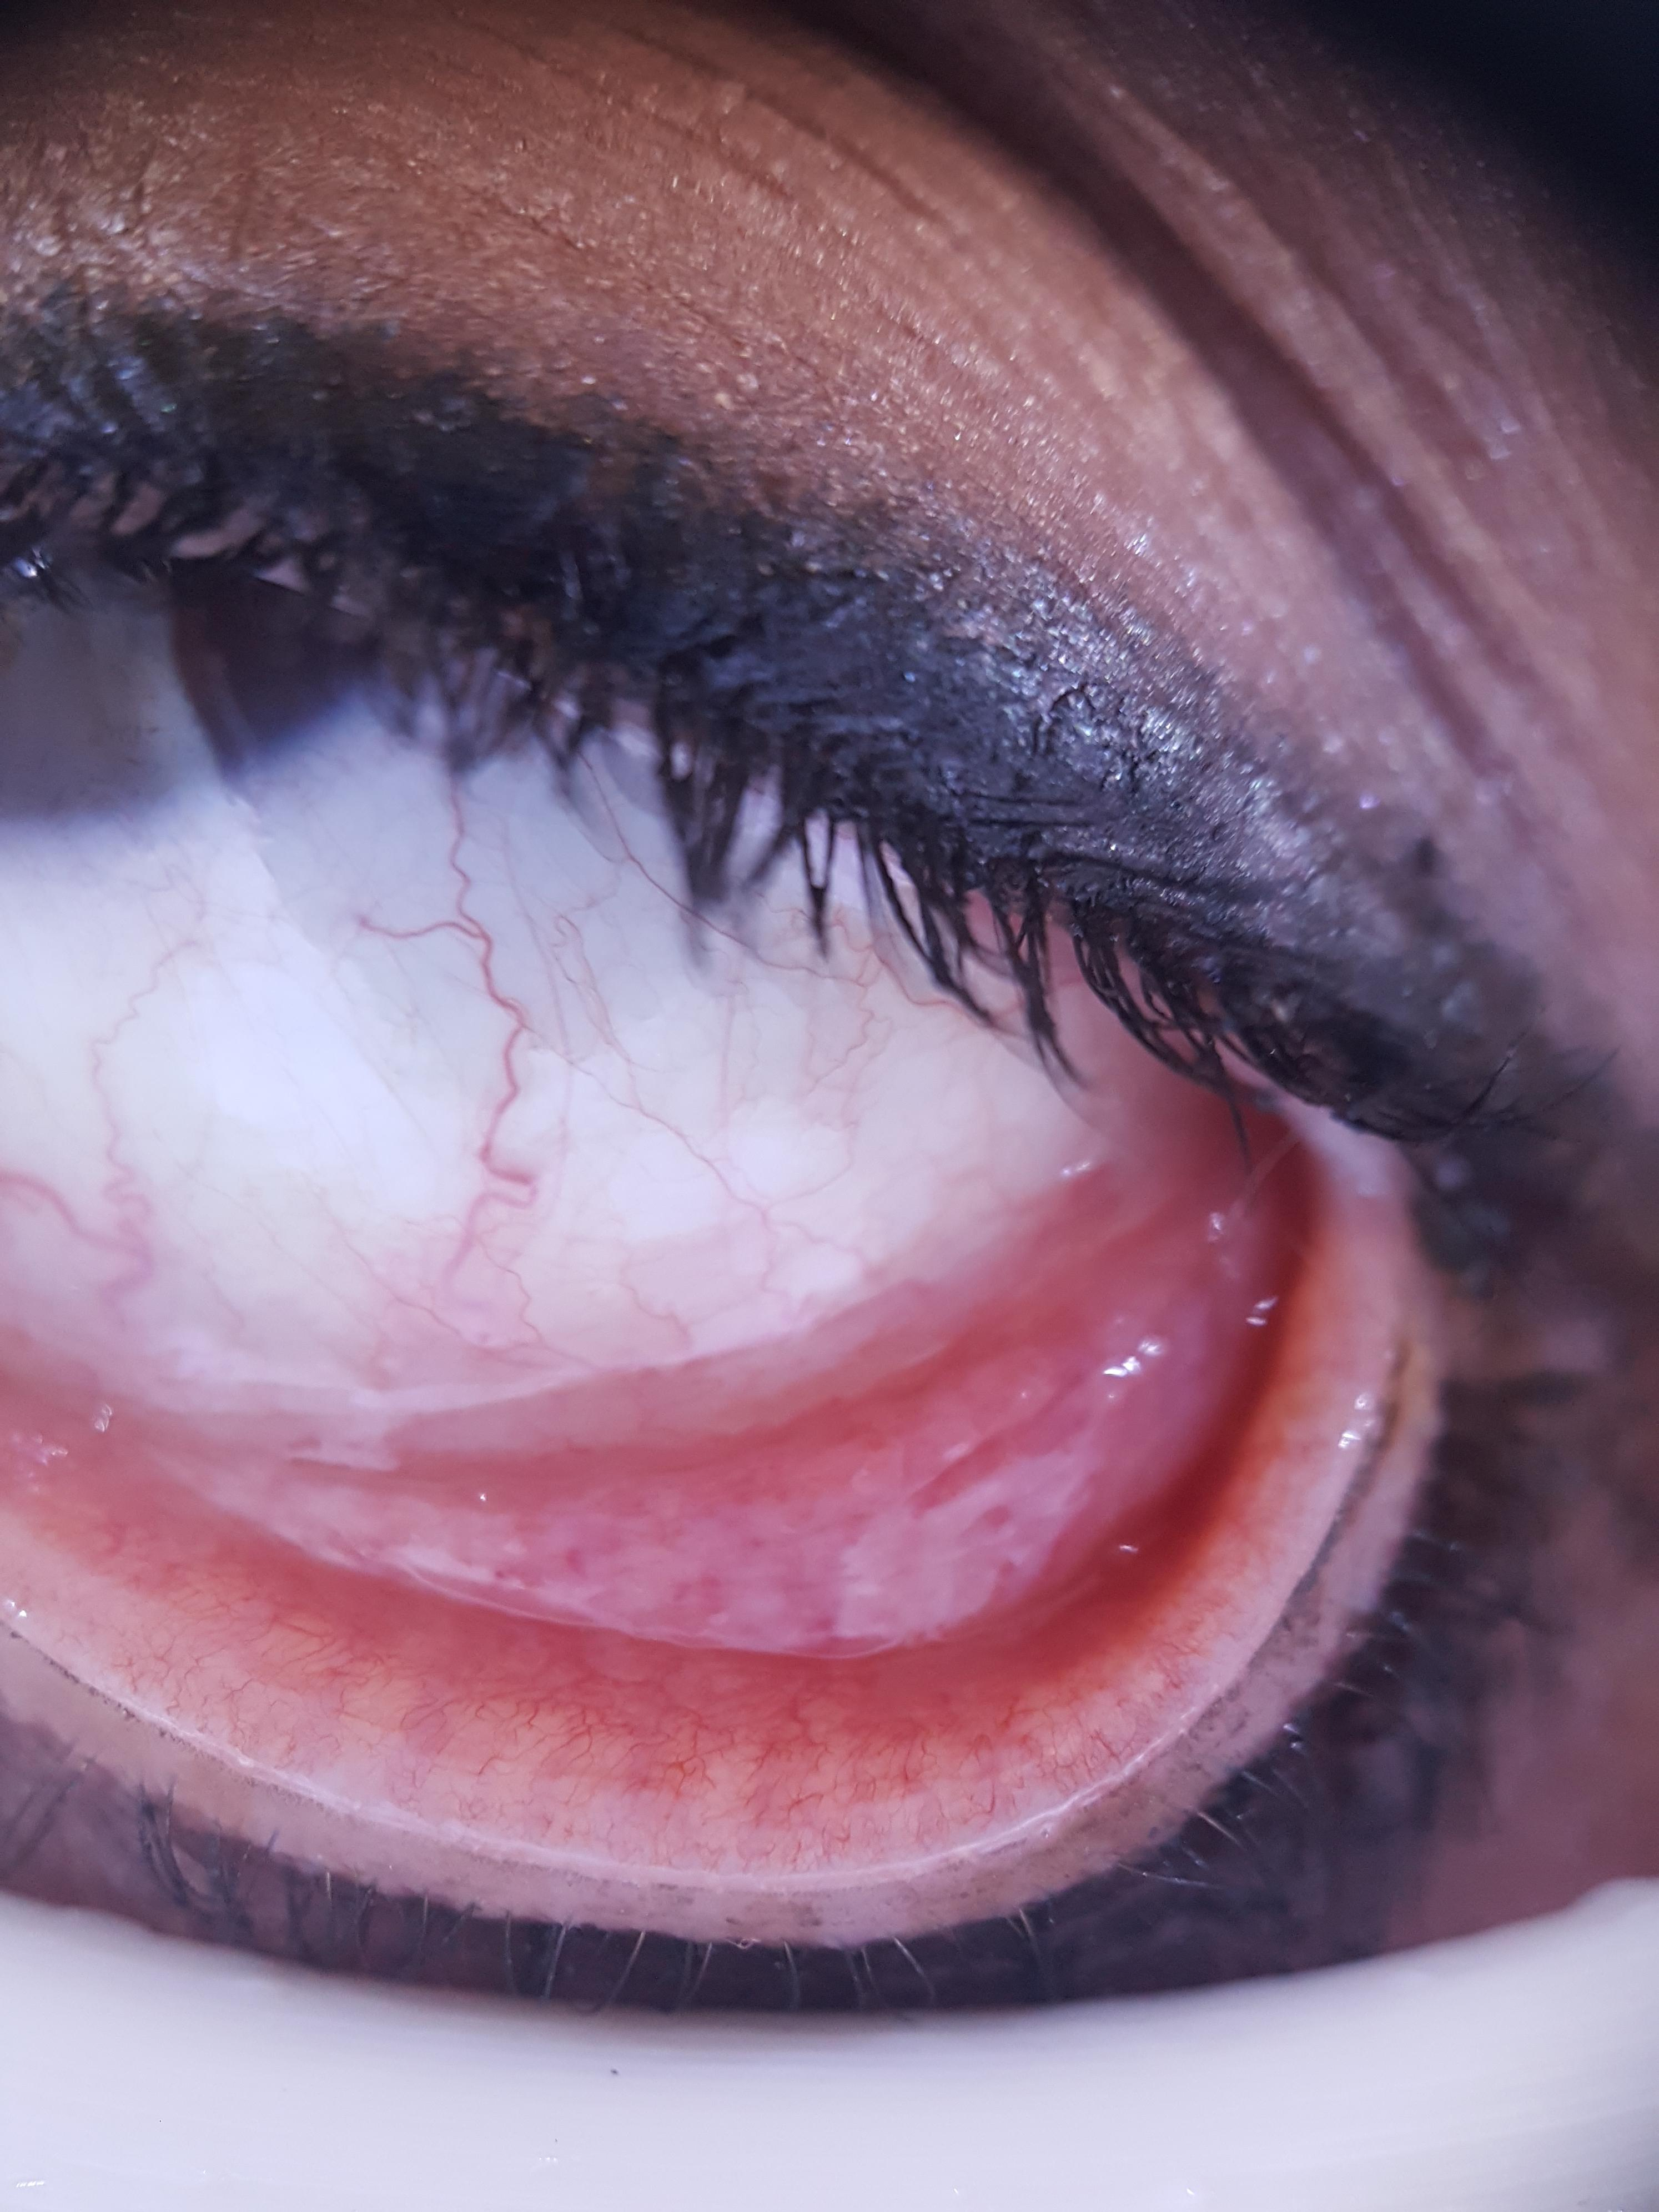forniceal: (0, 1217, 1251, 1658)
forniceal_palpebral: (0, 1204, 1305, 1780)
palpebral: (0, 1252, 1300, 1777)
